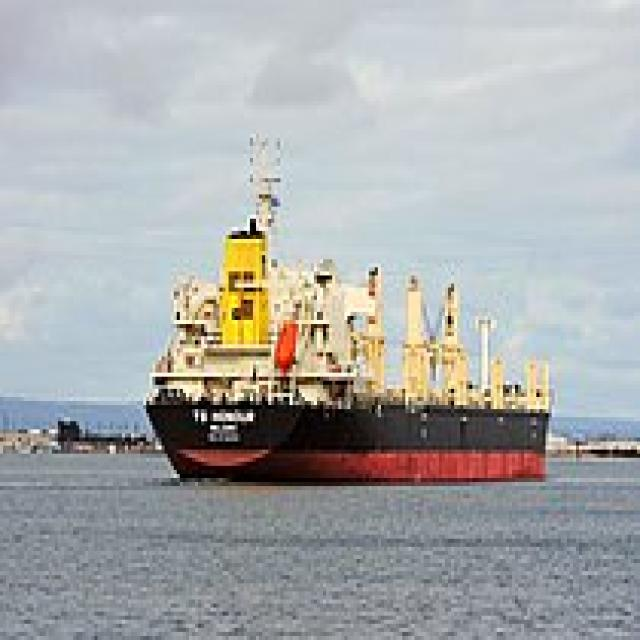Cargo: (137, 122, 555, 482)
